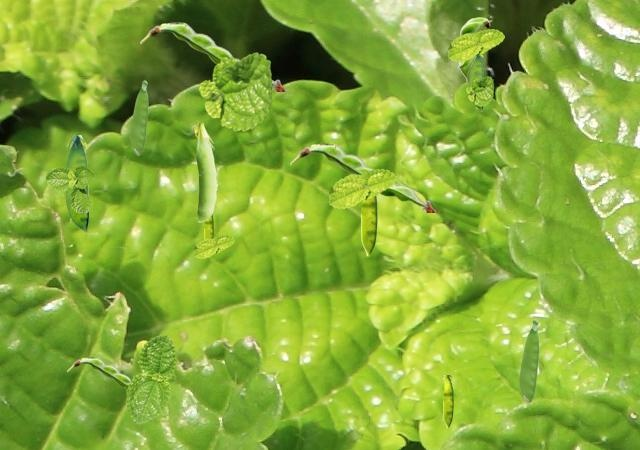pea: (290, 143, 435, 211), (140, 22, 285, 90), (192, 120, 215, 221), (457, 17, 491, 82), (65, 135, 87, 232), (67, 357, 130, 389), (519, 319, 538, 402), (130, 80, 147, 154), (361, 196, 376, 255), (469, 55, 482, 110), (443, 375, 452, 427), (204, 215, 212, 238)
